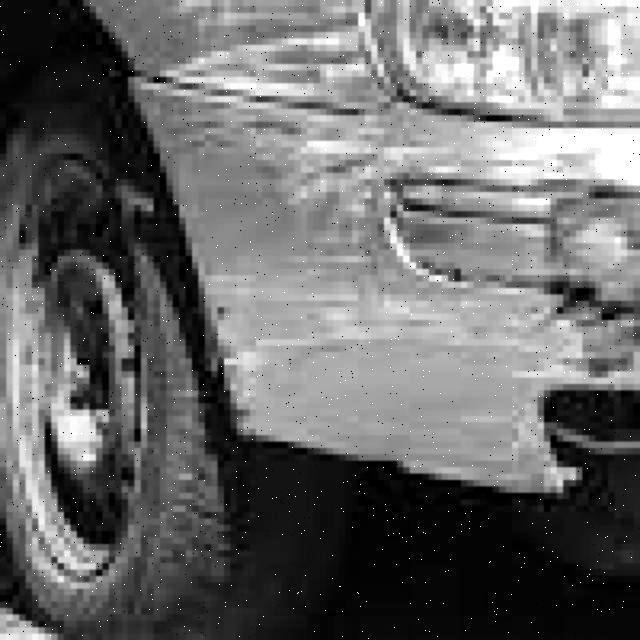front-bumper-dent: (154, 84, 634, 493)
